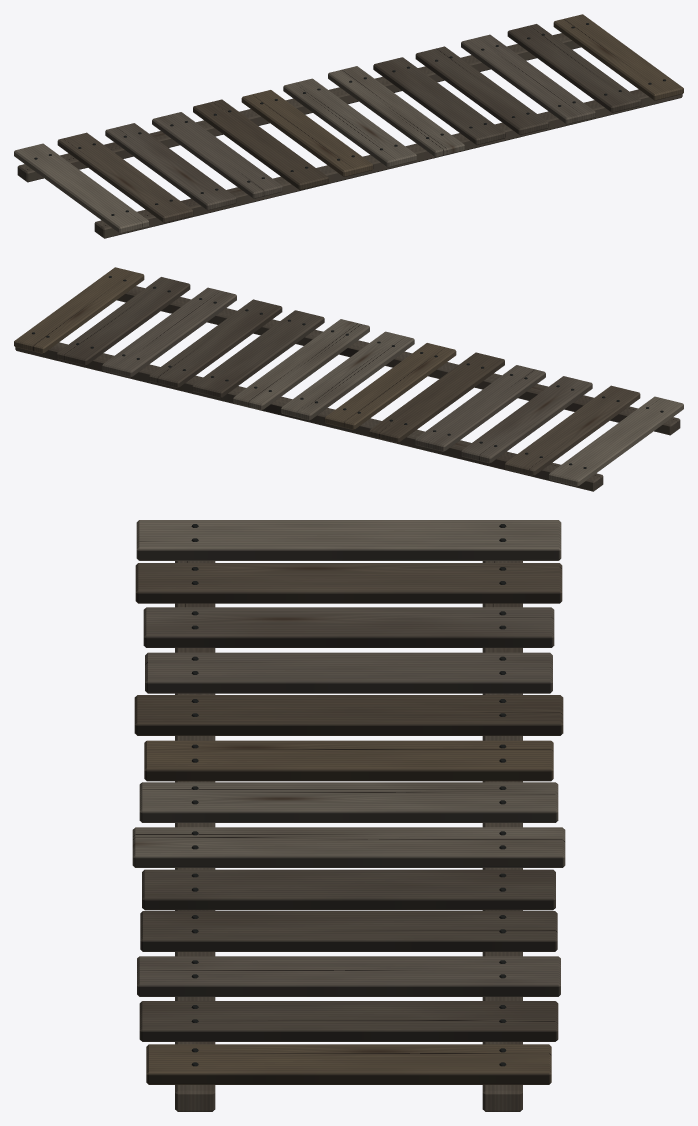
File: S7U_Duckboard_2m.fbx
3 views of the same model, one above another, from view 1: azimuth 30°, elevation 25°; view 2: azimuth 150°, elevation 25°; view 3: azimuth 270°, elevation 25° (orthographic). The views are drawn at different scales.
Visible parts, largest first — view 1: S7U_Duckboard_2m; view 2: S7U_Duckboard_2m; view 3: S7U_Duckboard_2m.
Part boxes in pixels (x1=…): S7U_Duckboard_2m: x1=14, y1=14, x2=683, y2=238; S7U_Duckboard_2m: x1=14, y1=267, x2=683, y2=491; S7U_Duckboard_2m: x1=132, y1=520, x2=565, y2=1111.
Size of the model in its own units: 2 by 0.0595 by 0.6465.
